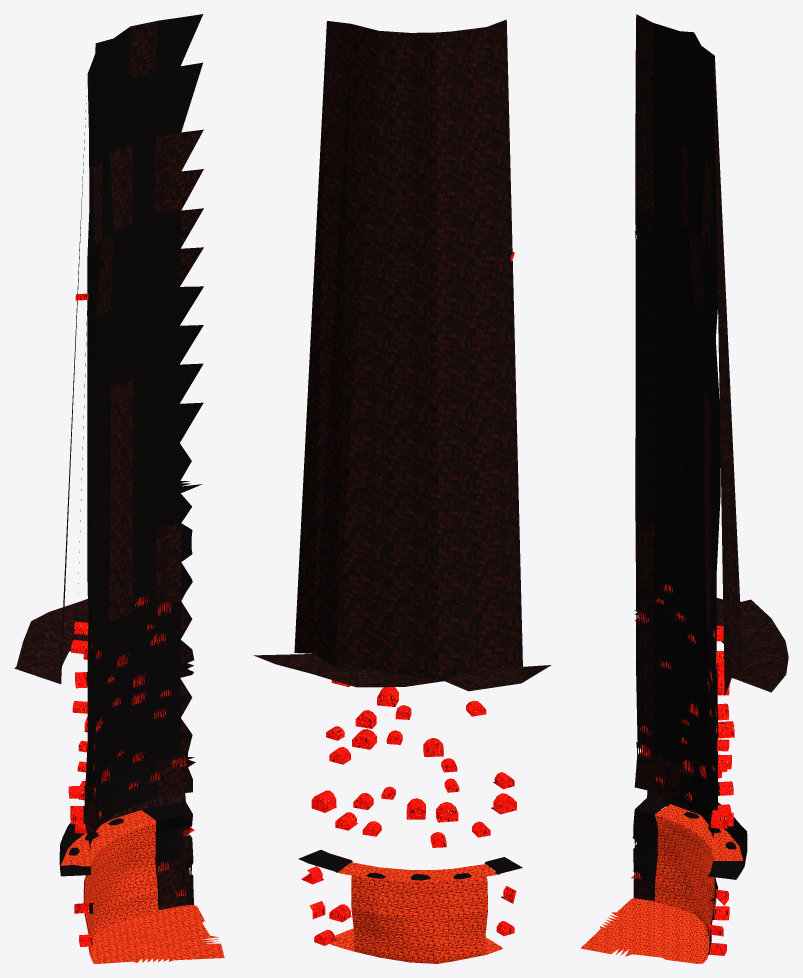
File: map_base_s4.glb
3 views of the same model, side by side, from view 1: azimuth 30°, elevation 25°; view 2: azimuth 150°, elevation 25°; view 3: azimuth 270°, elevation 25° (orthographic). The views are drawn at different scales.
Visible parts, largest first — view 1: MapBaseS4Rock; view 2: MapBaseS4Rock; view 3: MapBaseS4Rock.
Boxes of the visible parts, bbox=[...] form: MapBaseS4Rock: bbox=[14, 14, 224, 963]; MapBaseS4Rock: bbox=[253, 19, 551, 963]; MapBaseS4Rock: bbox=[580, 14, 788, 963].
Size of what is drawn, in the model's own units: 93.3 by 342 by 73.2.
6 materials, 6 textured.
